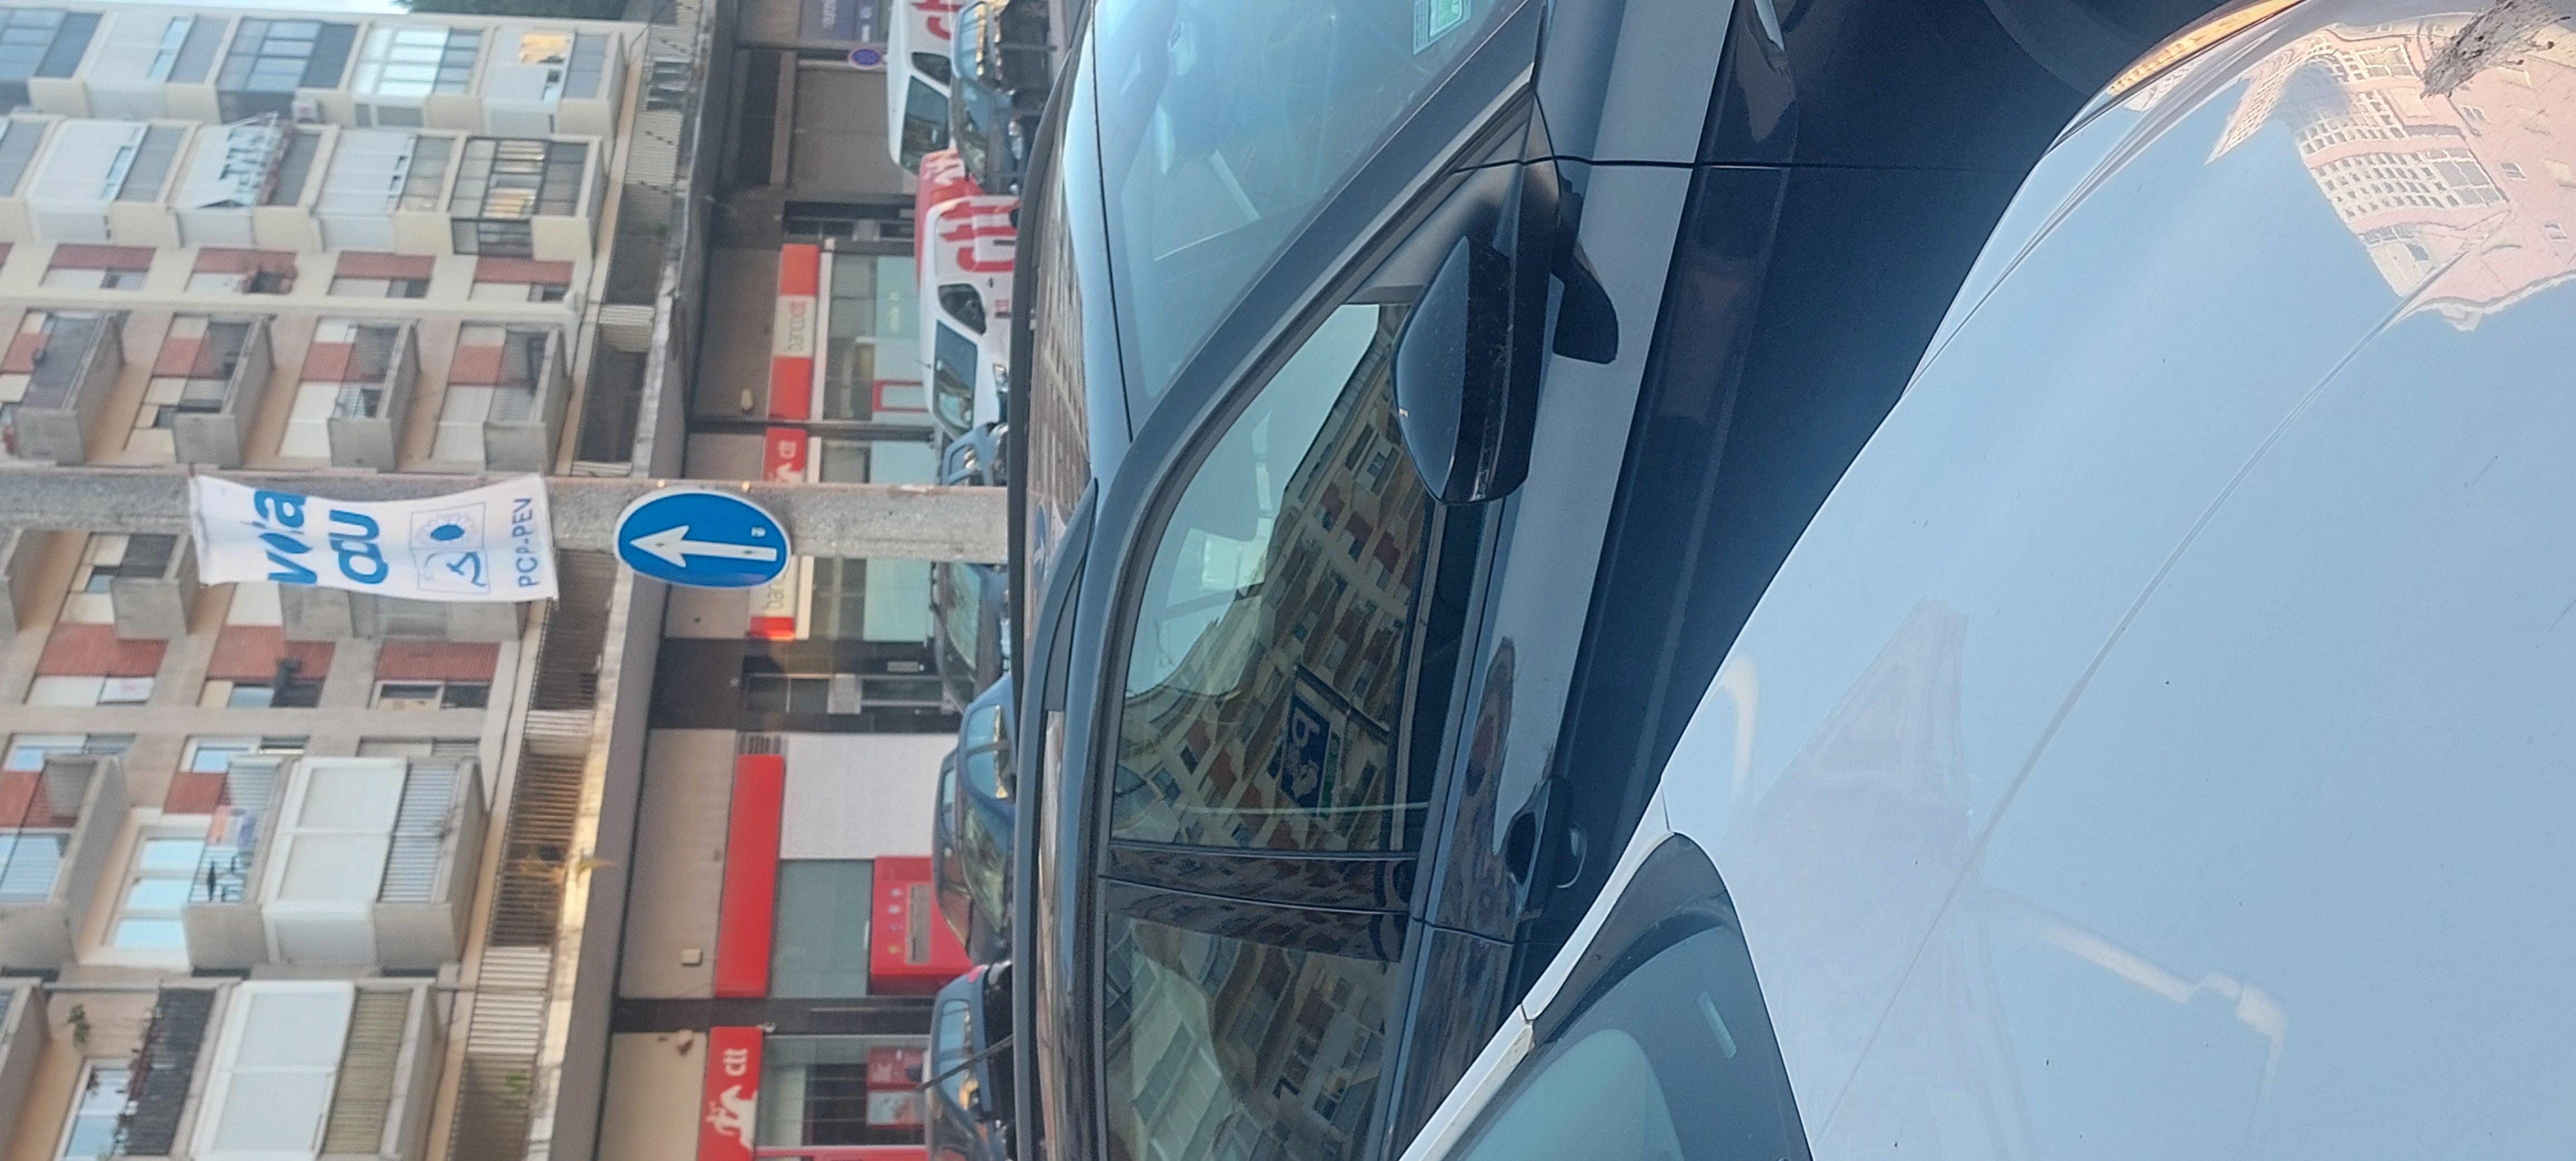Sentido obrigatorio: (1265, 276, 1485, 361)
